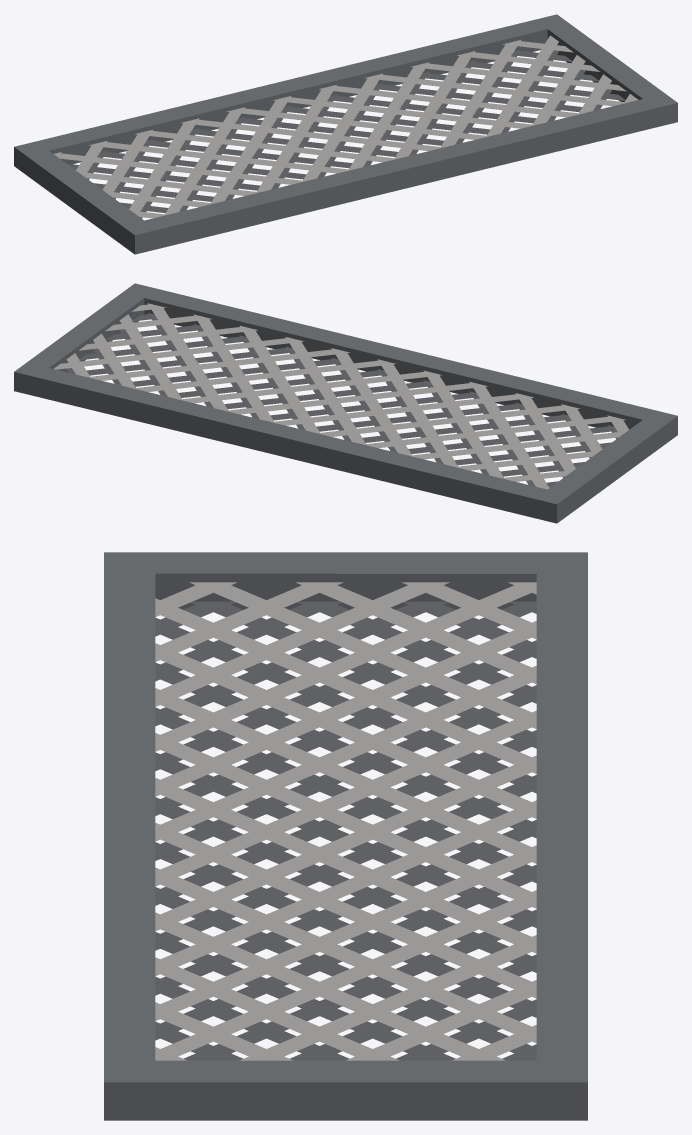
The model's file is LightGreyMetalFloorMediumLatticePlatform1.fbx.
3 views of the same model, one above another, from view 1: azimuth 30°, elevation 25°; view 2: azimuth 150°, elevation 25°; view 3: azimuth 270°, elevation 25° (orthographic). The views are drawn at different scales.
Parts seen in each view (by area): view 1: LightGreyMetalFloorMediumLatticePlatform1, LatticeTop, LatticeBottom; view 2: LightGreyMetalFloorMediumLatticePlatform1, LatticeTop, LatticeBottom; view 3: LatticeTop, LightGreyMetalFloorMediumLatticePlatform1, LatticeBottom.
Part boxes in pixels (<box>): LightGreyMetalFloorMediumLatticePlatform1: <box>14,14,677,254</box>; LatticeTop: <box>54,35,637,218</box>; LatticeBottom: <box>67,49,625,218</box>; LightGreyMetalFloorMediumLatticePlatform1: <box>14,283,677,523</box>; LatticeTop: <box>54,303,628,489</box>; LatticeBottom: <box>66,313,618,487</box>; LatticeTop: <box>155,582,536,1060</box>; LightGreyMetalFloorMediumLatticePlatform1: <box>104,552,587,1120</box>; LatticeBottom: <box>155,601,536,1060</box>.
Bounding box in the file's own units: 807 × 27.41 × 311.
3 materials, 2 textured.
